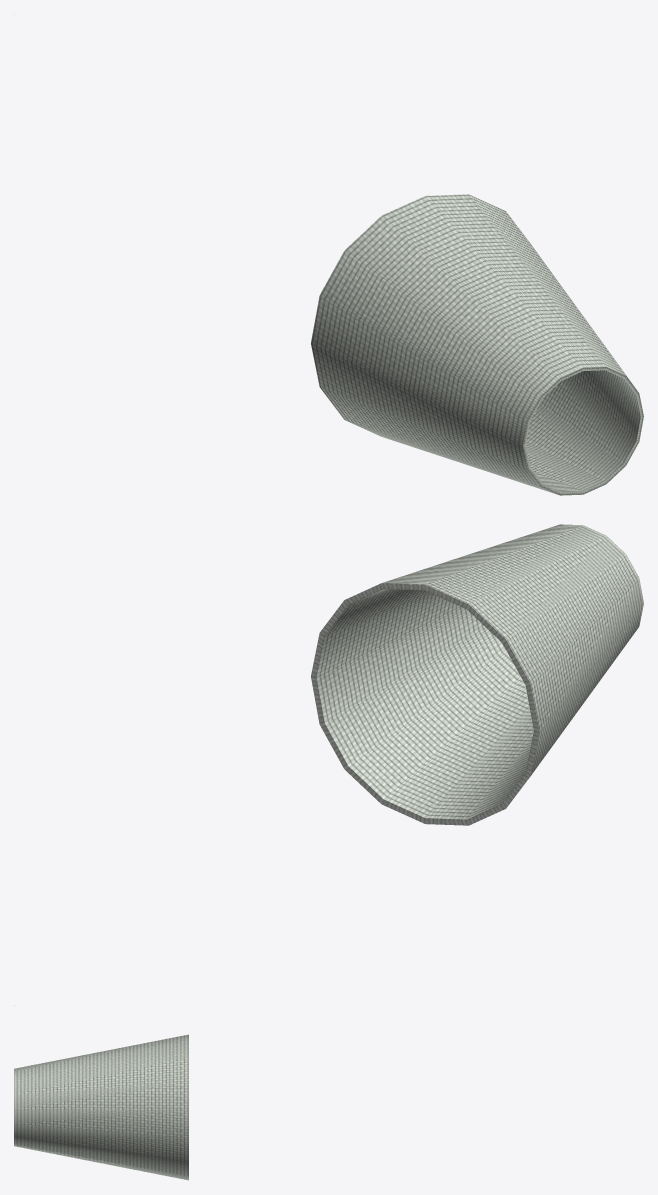
Rendered from MeshFloorLamp_1_0_GeomSubset_2.obj.
The picture shows the model from 3 angles, top to bottom: view 1: azimuth 30°, elevation 25°; view 2: azimuth 150°, elevation 25°; view 3: azimuth 270°, elevation 25°; orthographic projection. The views are drawn at different scales.
Parts seen in each view (by area): view 1: MeshFloorLamp_1_0_GeomSubset_2; view 2: MeshFloorLamp_1_0_GeomSubset_2; view 3: MeshFloorLamp_1_0_GeomSubset_2.
Boxes of the visible parts, x1,y1,x2,y2 form: MeshFloorLamp_1_0_GeomSubset_2: [14, 14, 643, 495]; MeshFloorLamp_1_0_GeomSubset_2: [14, 524, 643, 1005]; MeshFloorLamp_1_0_GeomSubset_2: [14, 1034, 188, 1180].
Bounding box in the file's own units: 0.4786 × 0.4786 × 2.06.
